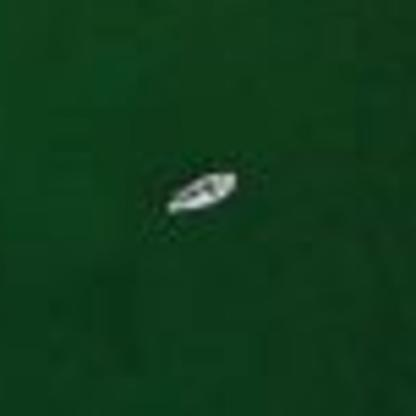ship: (161, 156, 253, 218)
